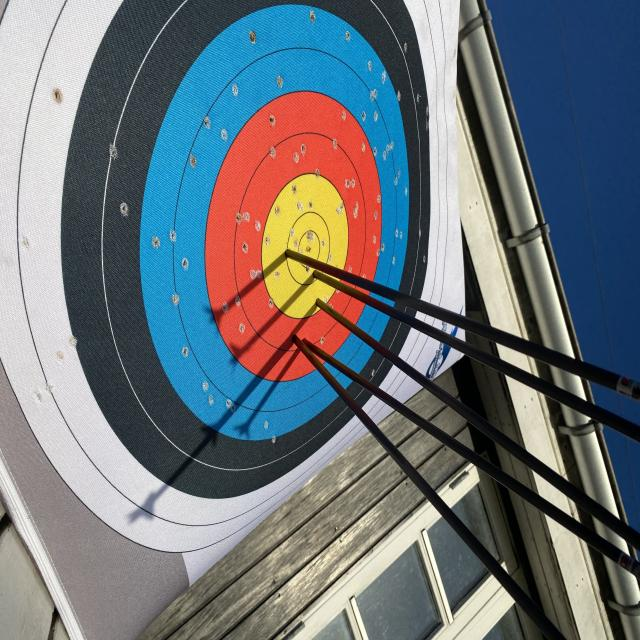Arrow_Red: (294, 330, 328, 363), (278, 321, 302, 367)
Arrow_Yellow: (303, 290, 336, 322), (278, 230, 297, 278), (302, 260, 327, 290)
